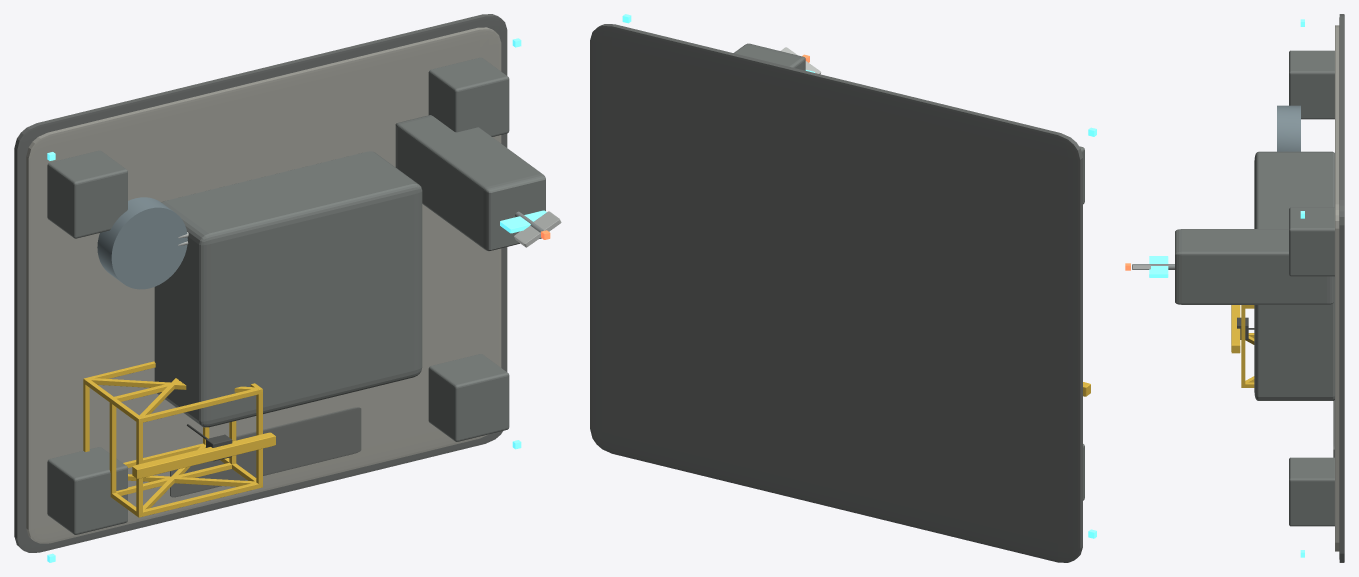
File: b-42-forward-outpost-lod1.glb
3 views of the same model, side by side, from view 1: azimuth 30°, elevation 25°; view 2: azimuth 150°, elevation 25°; view 3: azimuth 270°, elevation 25° (orthographic). The views are drawn at different scales.
Visible parts, largest first — view 1: foundation_inner_pad, command_block, foundation, tower_main, outpost_turret_base, outpost_wall_7_-5.2, outpost_entry_road, outpost_wall_-7_5.2, outpost_wall_-7_-5.2, outpost_wall_7_5.2, resource_dropoff_bridge, resource_dropoff_beam_x_2_n (+6 smaller); view 2: foundation, tower_main; view 3: command_block, tower_main, foundation, outpost_wall_7_-5.2, outpost_wall_7_5.2, outpost_wall_-7_5.2, foundation_inner_pad, outpost_turret_base, resource_dropoff_bridge, outpost_watch_sensor_array_0, resource_dropoff_beam_y_2_e.
Part boxes in pixels (<box>): foundation_inner_pad: <box>26,27,501,543</box>; command_block: <box>154,151,422,427</box>; foundation: <box>14,14,507,552</box>; tower_main: <box>395,115,545,251</box>; outpost_turret_base: <box>97,197,187,289</box>; outpost_wall_7_-5.2: <box>428,354,509,441</box>; outpost_entry_road: <box>170,407,361,497</box>; outpost_wall_-7_5.2: <box>47,150,127,238</box>; outpost_wall_-7_-5.2: <box>47,447,127,534</box>; outpost_wall_7_5.2: <box>428,57,509,136</box>; resource_dropoff_bridge: <box>132,432,275,478</box>; resource_dropoff_beam_x_2_n: <box>136,388,262,422</box>; foundation: <box>590,24,1082,562</box>; tower_main: <box>734,43,805,70</box>; command_block: <box>1254,151,1334,400</box>; tower_main: <box>1175,229,1333,304</box>; foundation: <box>1339,14,1344,562</box>; outpost_wall_7_-5.2: <box>1289,457,1334,526</box>; outpost_wall_7_5.2: <box>1289,207,1334,276</box>; outpost_wall_-7_5.2: <box>1289,50,1334,119</box>; foundation_inner_pad: <box>1335,25,1339,551</box>; outpost_turret_base: <box>1277,105,1300,151</box>; resource_dropoff_bridge: <box>1231,305,1240,353</box>; outpost_watch_sensor_array_0: <box>1149,256,1168,277</box>; resource_dropoff_beam_y_2_e: <box>1241,308,1245,384</box>.
Size of what is drawn, in the model's own units: 18 by 15 by 8.27.
